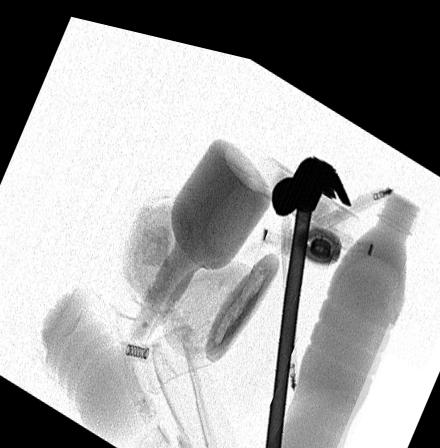Hammer: (262, 140, 352, 448)
